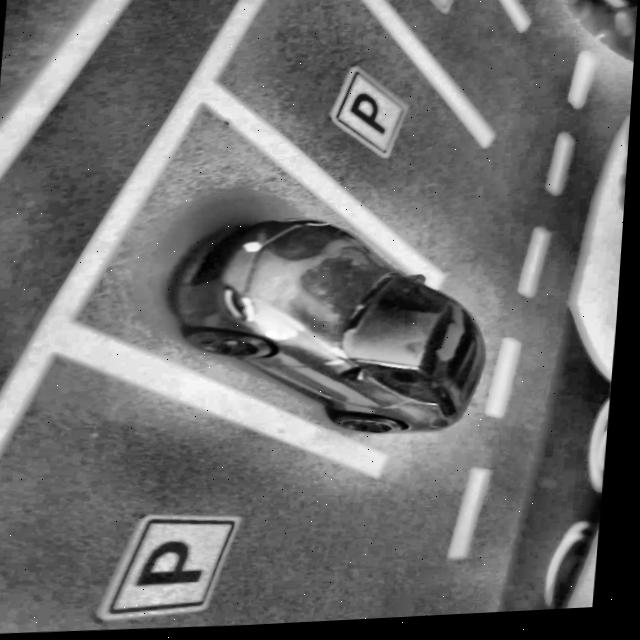car: (164, 210, 502, 449)
